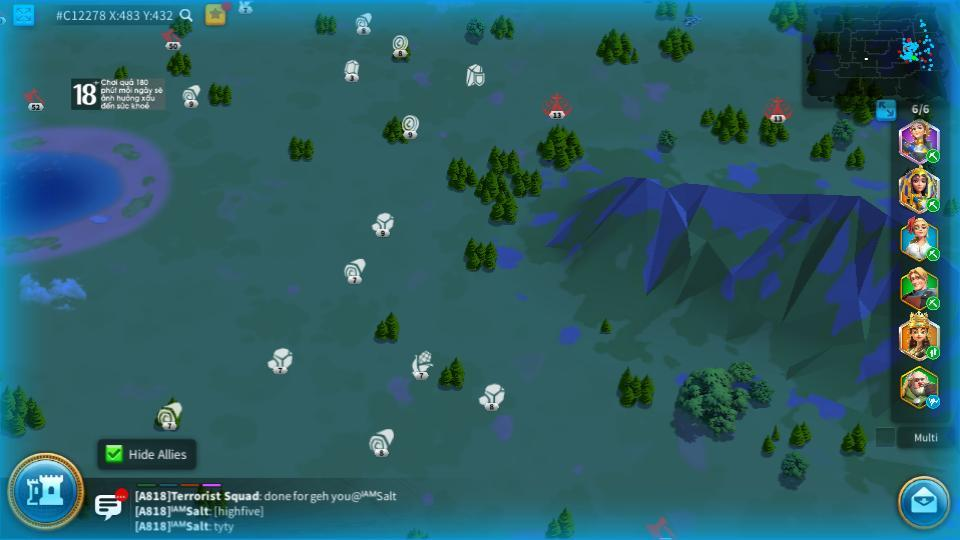gem-z-out: (342, 59, 362, 82)
march_farming: (925, 197, 941, 212), (925, 149, 941, 162), (926, 297, 941, 308)
march_marching: (925, 345, 941, 359), (925, 395, 942, 407)
